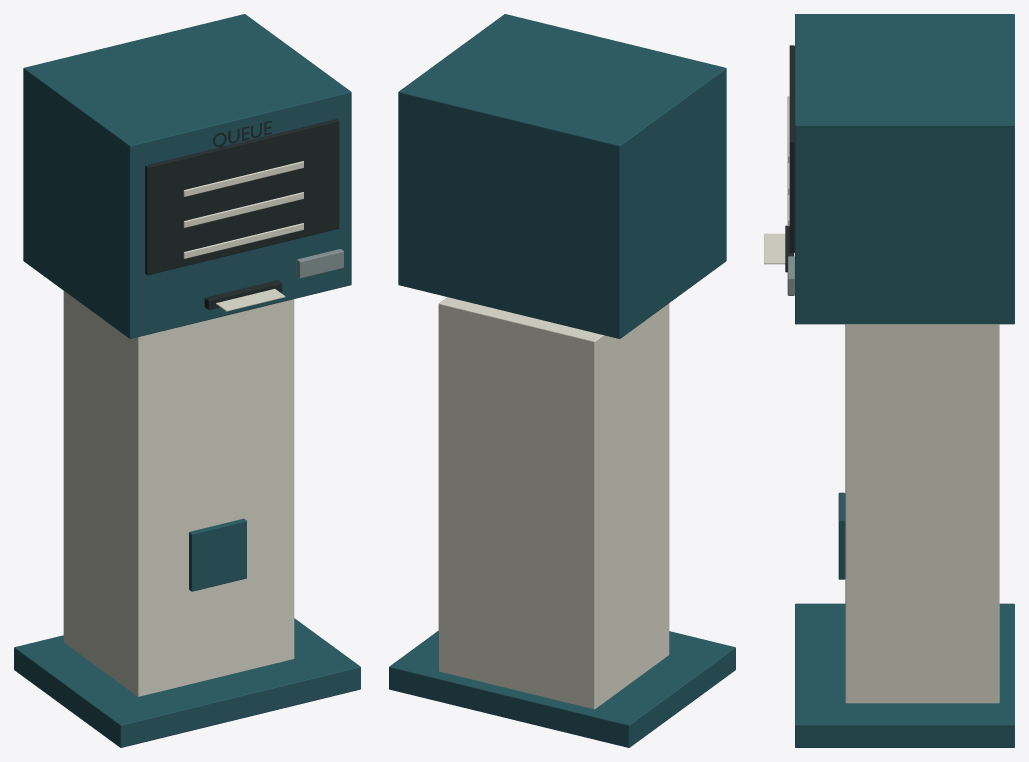
File: public-service-queue-kiosk.glb
3 views of the same model, side by side, from view 1: azimuth 30°, elevation 25°; view 2: azimuth 150°, elevation 25°; view 3: azimuth 270°, elevation 25° (orthographic). The views are drawn at different scales.
Parts seen in each view (by area): view 1: Pedestal, Head, Display, Foot, Wheelchair_Clearance_Marker, Speaker, Interface_Line.002, Interface_Line.001, Interface_Line, Ticket_Slot, Paper; view 2: Head, Pedestal, Foot; view 3: Head, Pedestal, Foot, Display, Paper, Wheelchair_Clearance_Marker.
Boxes of the visible parts, x1,y1,x2,y2 form: Pedestal: (63, 291, 294, 696); Head: (23, 14, 351, 338); Display: (145, 119, 339, 275); Foot: (14, 618, 360, 747); Wheelchair_Clearance_Marker: (189, 518, 246, 591); Speaker: (296, 249, 343, 278); Interface_Line.002: (183, 223, 303, 258); Interface_Line.001: (183, 192, 303, 227); Interface_Line: (183, 161, 303, 196); Ticket_Slot: (204, 280, 282, 309); Paper: (216, 289, 285, 311); Head: (398, 14, 726, 338); Pedestal: (438, 297, 669, 709); Foot: (389, 631, 735, 747); Head: (795, 14, 1014, 324); Pedestal: (845, 324, 999, 703); Foot: (795, 603, 1014, 747); Display: (789, 45, 794, 252); Paper: (764, 233, 794, 264); Wheelchair_Clearance_Marker: (838, 492, 845, 579).
Bounding box in the file's own units: 0.65 × 1.55 × 0.57.
